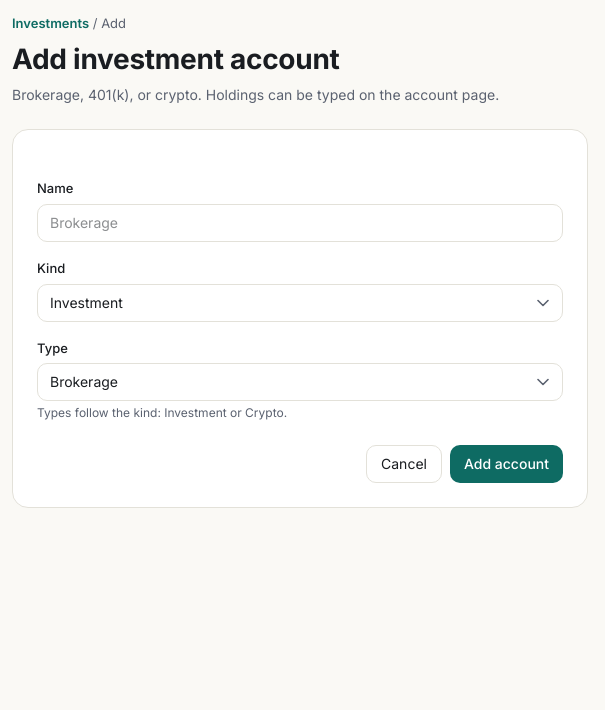
Test case: AccountFormPage investments › matches the investment add form: type follows kind, optional chain watch, no last four
expect the field labelled "Name" is shown: met, box [37, 204, 563, 242]
expect the text "Types follow the kind: Investment or Crypto." is shown: met, box [37, 405, 287, 420]
Select "Crypto" in the dropdown labelled "Kind" at (300, 303), box [37, 284, 563, 322]
(page scrolled)
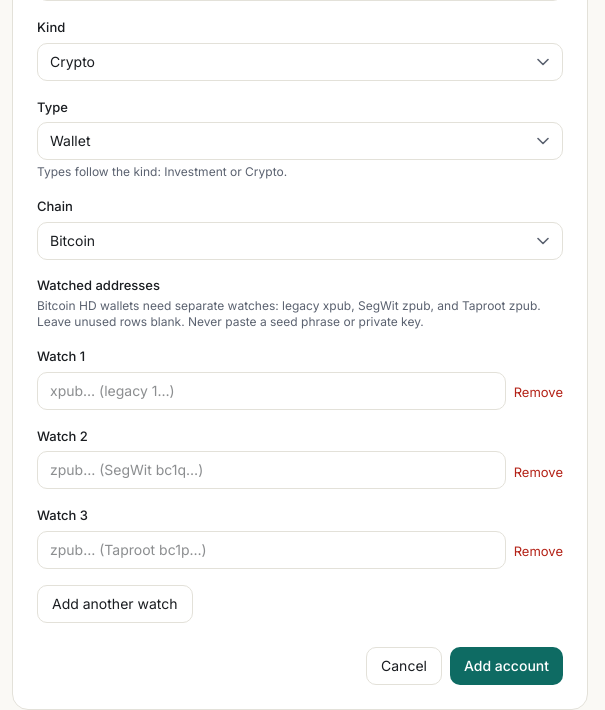
expect the dropdown labelled "Type Types follow the kind: Investment or Crypto." shows "Wallet": met, box [37, 122, 563, 160]
expect the dropdown labelled "Chain" is shown: met, box [37, 222, 563, 260]
expect the text "Watched addresses" is shown: met, box [37, 277, 160, 293]
Click the button "Add another watch" at (115, 604), box [37, 585, 192, 623]
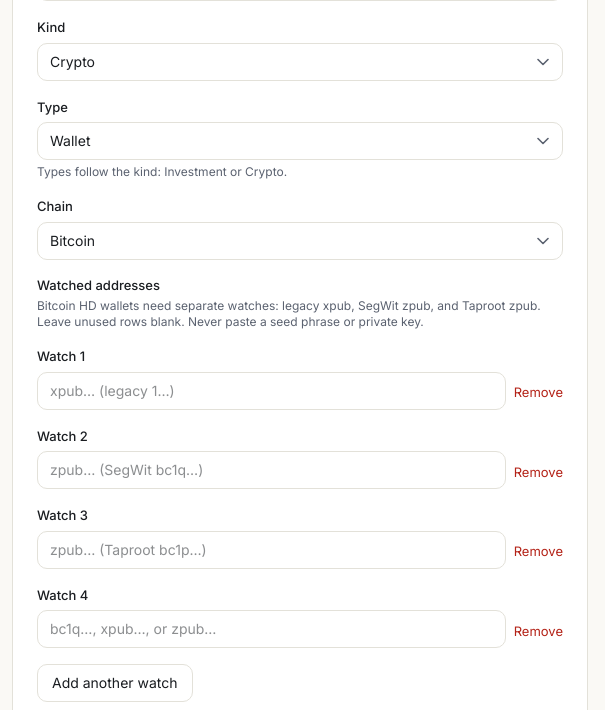
expect the field labelled "Watch 4" is shown: met, box [37, 610, 506, 648]
Click the 4th button "Remove" at (538, 631), box [514, 622, 563, 640]
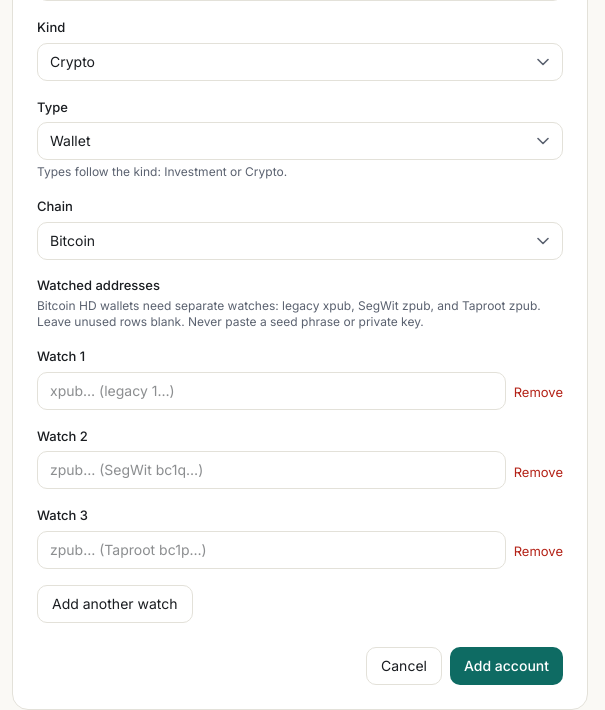
expect the text labelled "Watch 4" is gone: met
Select "Ethereum" in the dropdown labelled "Chain" at (300, 241), box [37, 222, 563, 260]
(page scrolled)
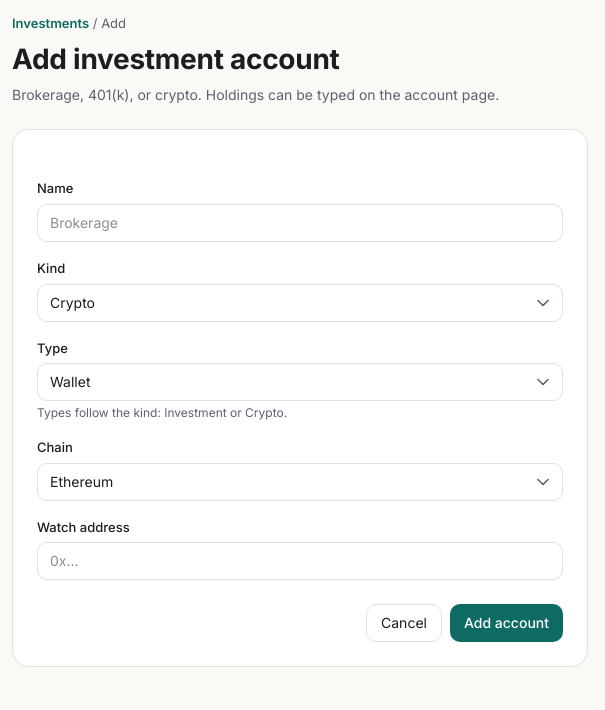
expect the text "Watched addresses" is gone: met
expect the text labelled "Watch 2" is gone: met
expect the button "Add another watch" is gone: met
Select "Bitcoin" in the dropdown labelled "Chain" at (300, 482), box [37, 463, 563, 501]
(page scrolled)
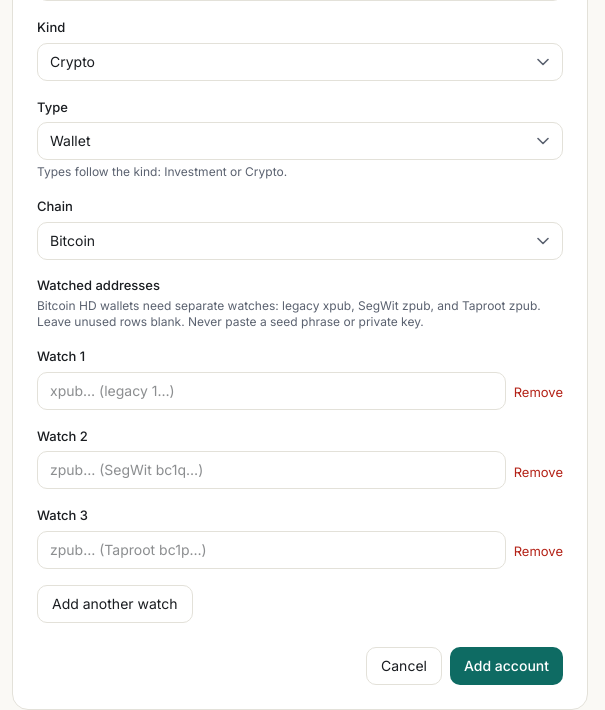
expect the text "Watched addresses" is shown: met, box [37, 277, 160, 293]
expect the field labelled "Watch 2" is shown: met, box [37, 451, 506, 489]
expect the field labelled "Watch 3" is shown: met, box [37, 531, 506, 569]
